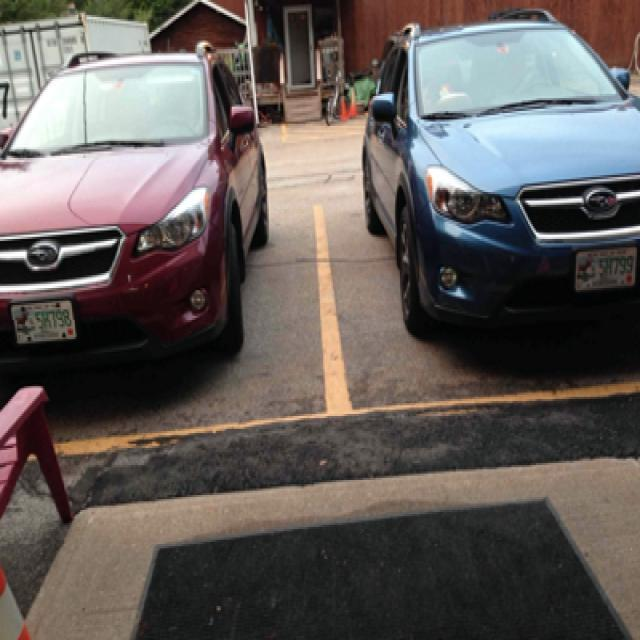licence: (8, 303, 75, 341)
